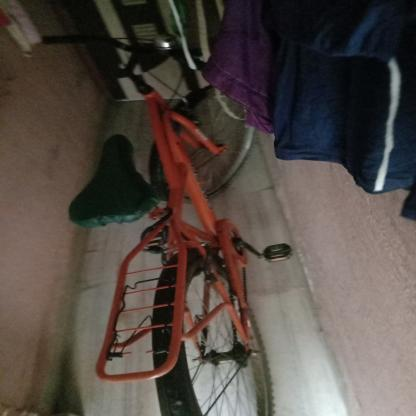bike: (13, 20, 348, 416)
